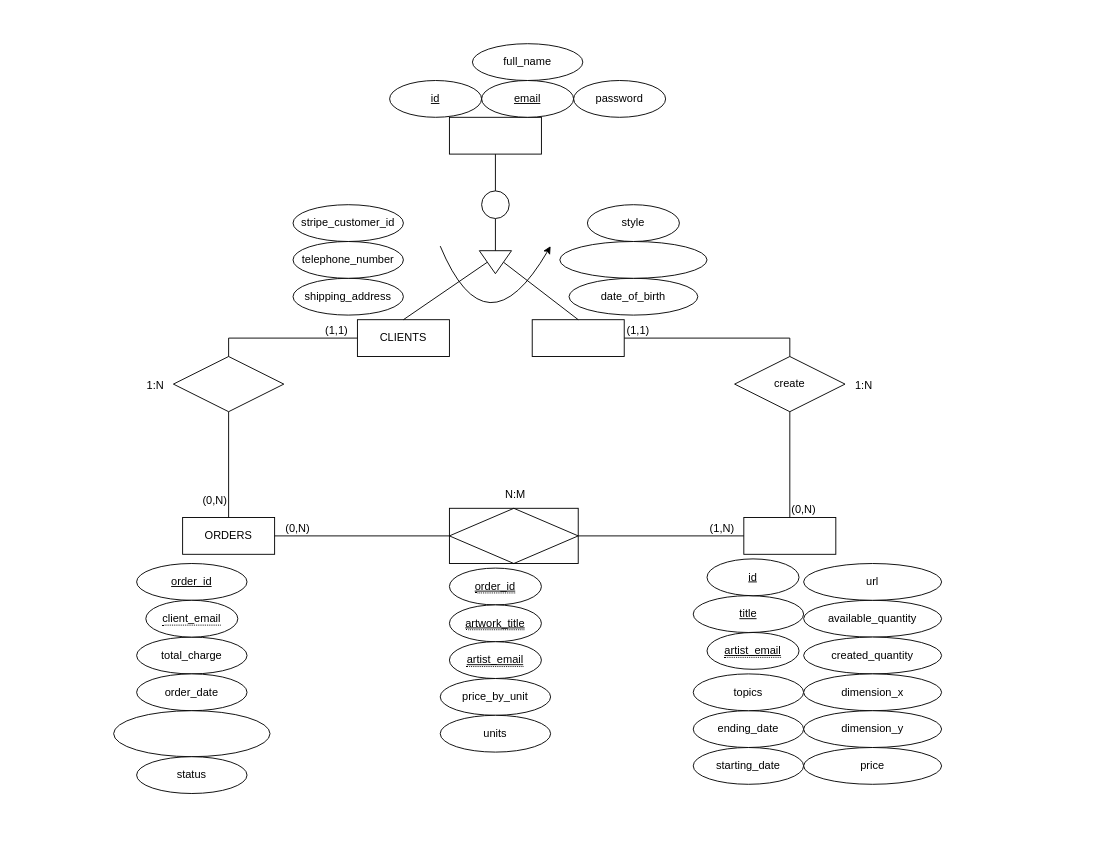
This 1101x842 diagram has some shape labels left out. Here are the shapes that lost their labels. From the top down, the centre of each, then its label:
(x=494, y=135): USERS
(x=633, y=259): total_created_artworks
(x=577, y=337): ARTISTS
(x=228, y=384): make
(x=513, y=535): have
(x=789, y=535): ARTWORKS
(x=191, y=733): total_artworks_adquired
